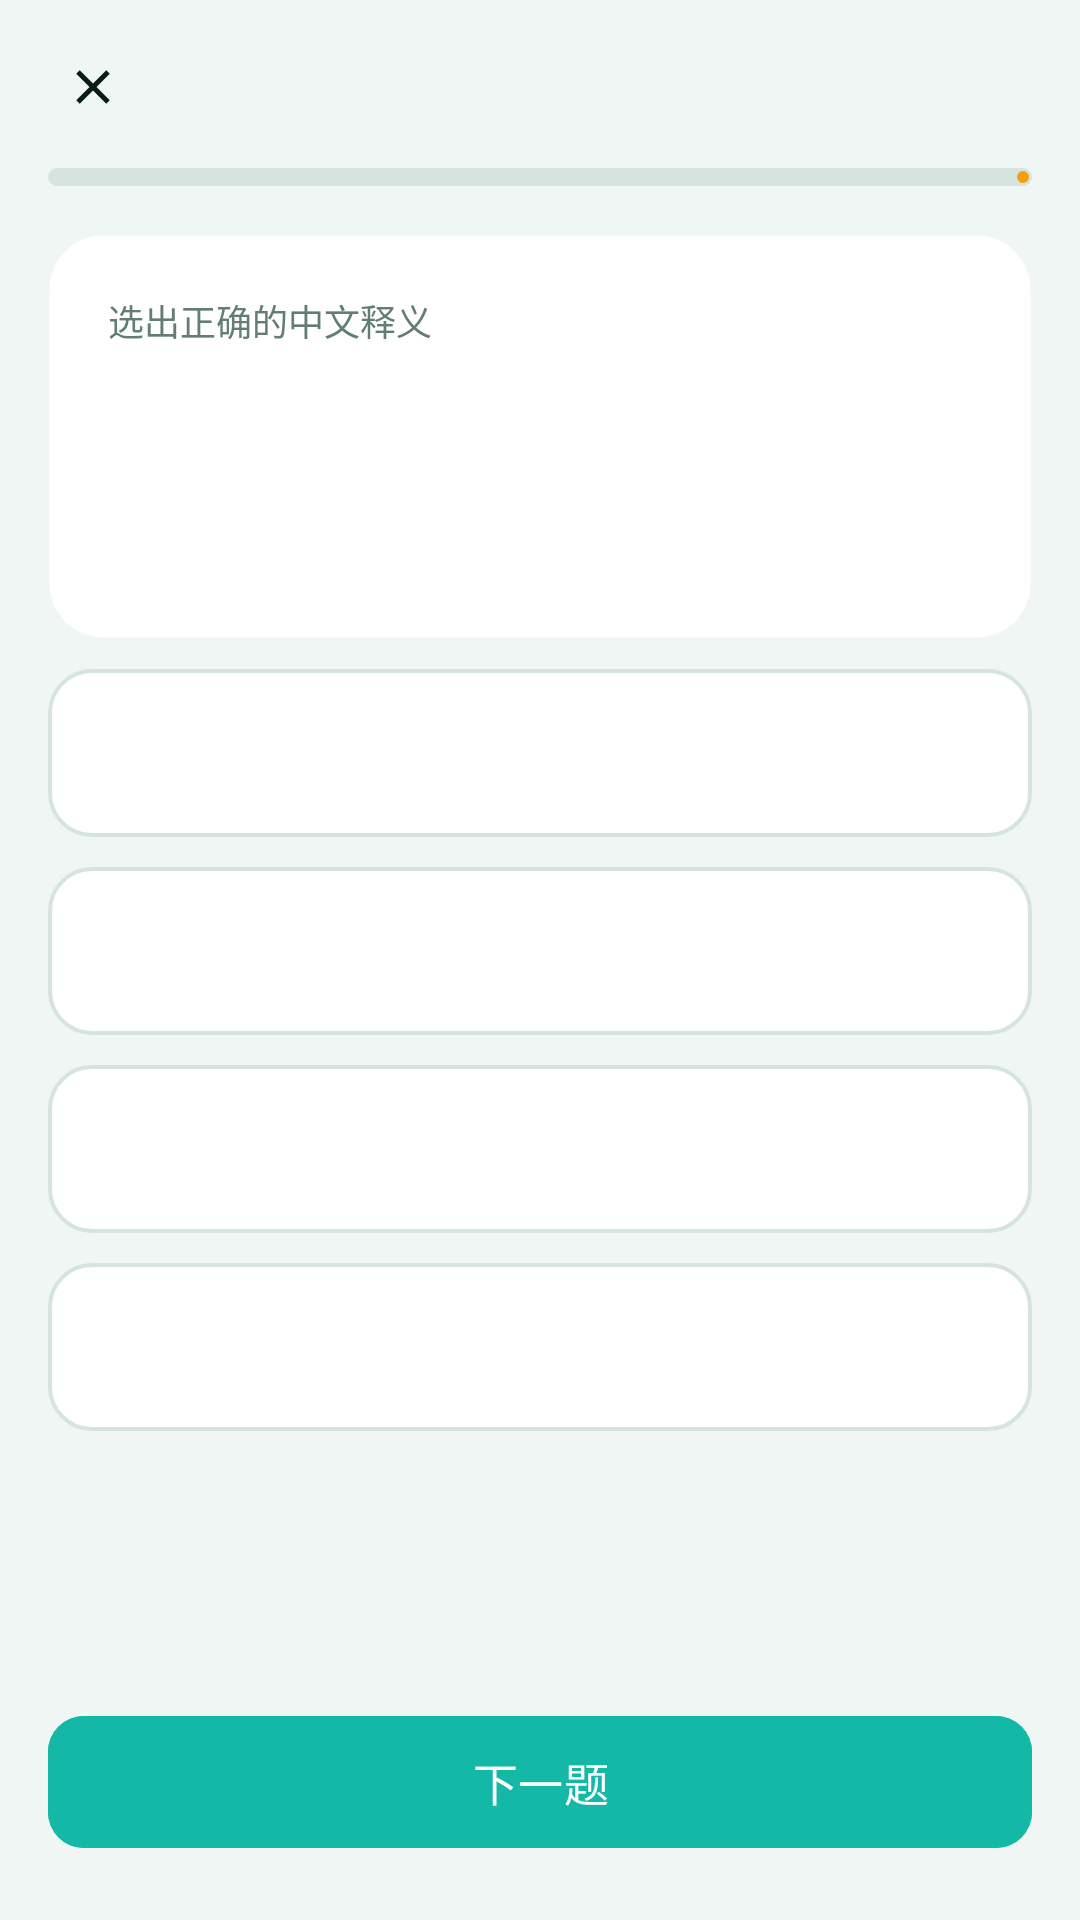

Where to tap for icons on this 1080px×1920px app screen, as point (x, y):
关闭: point (93, 87)
